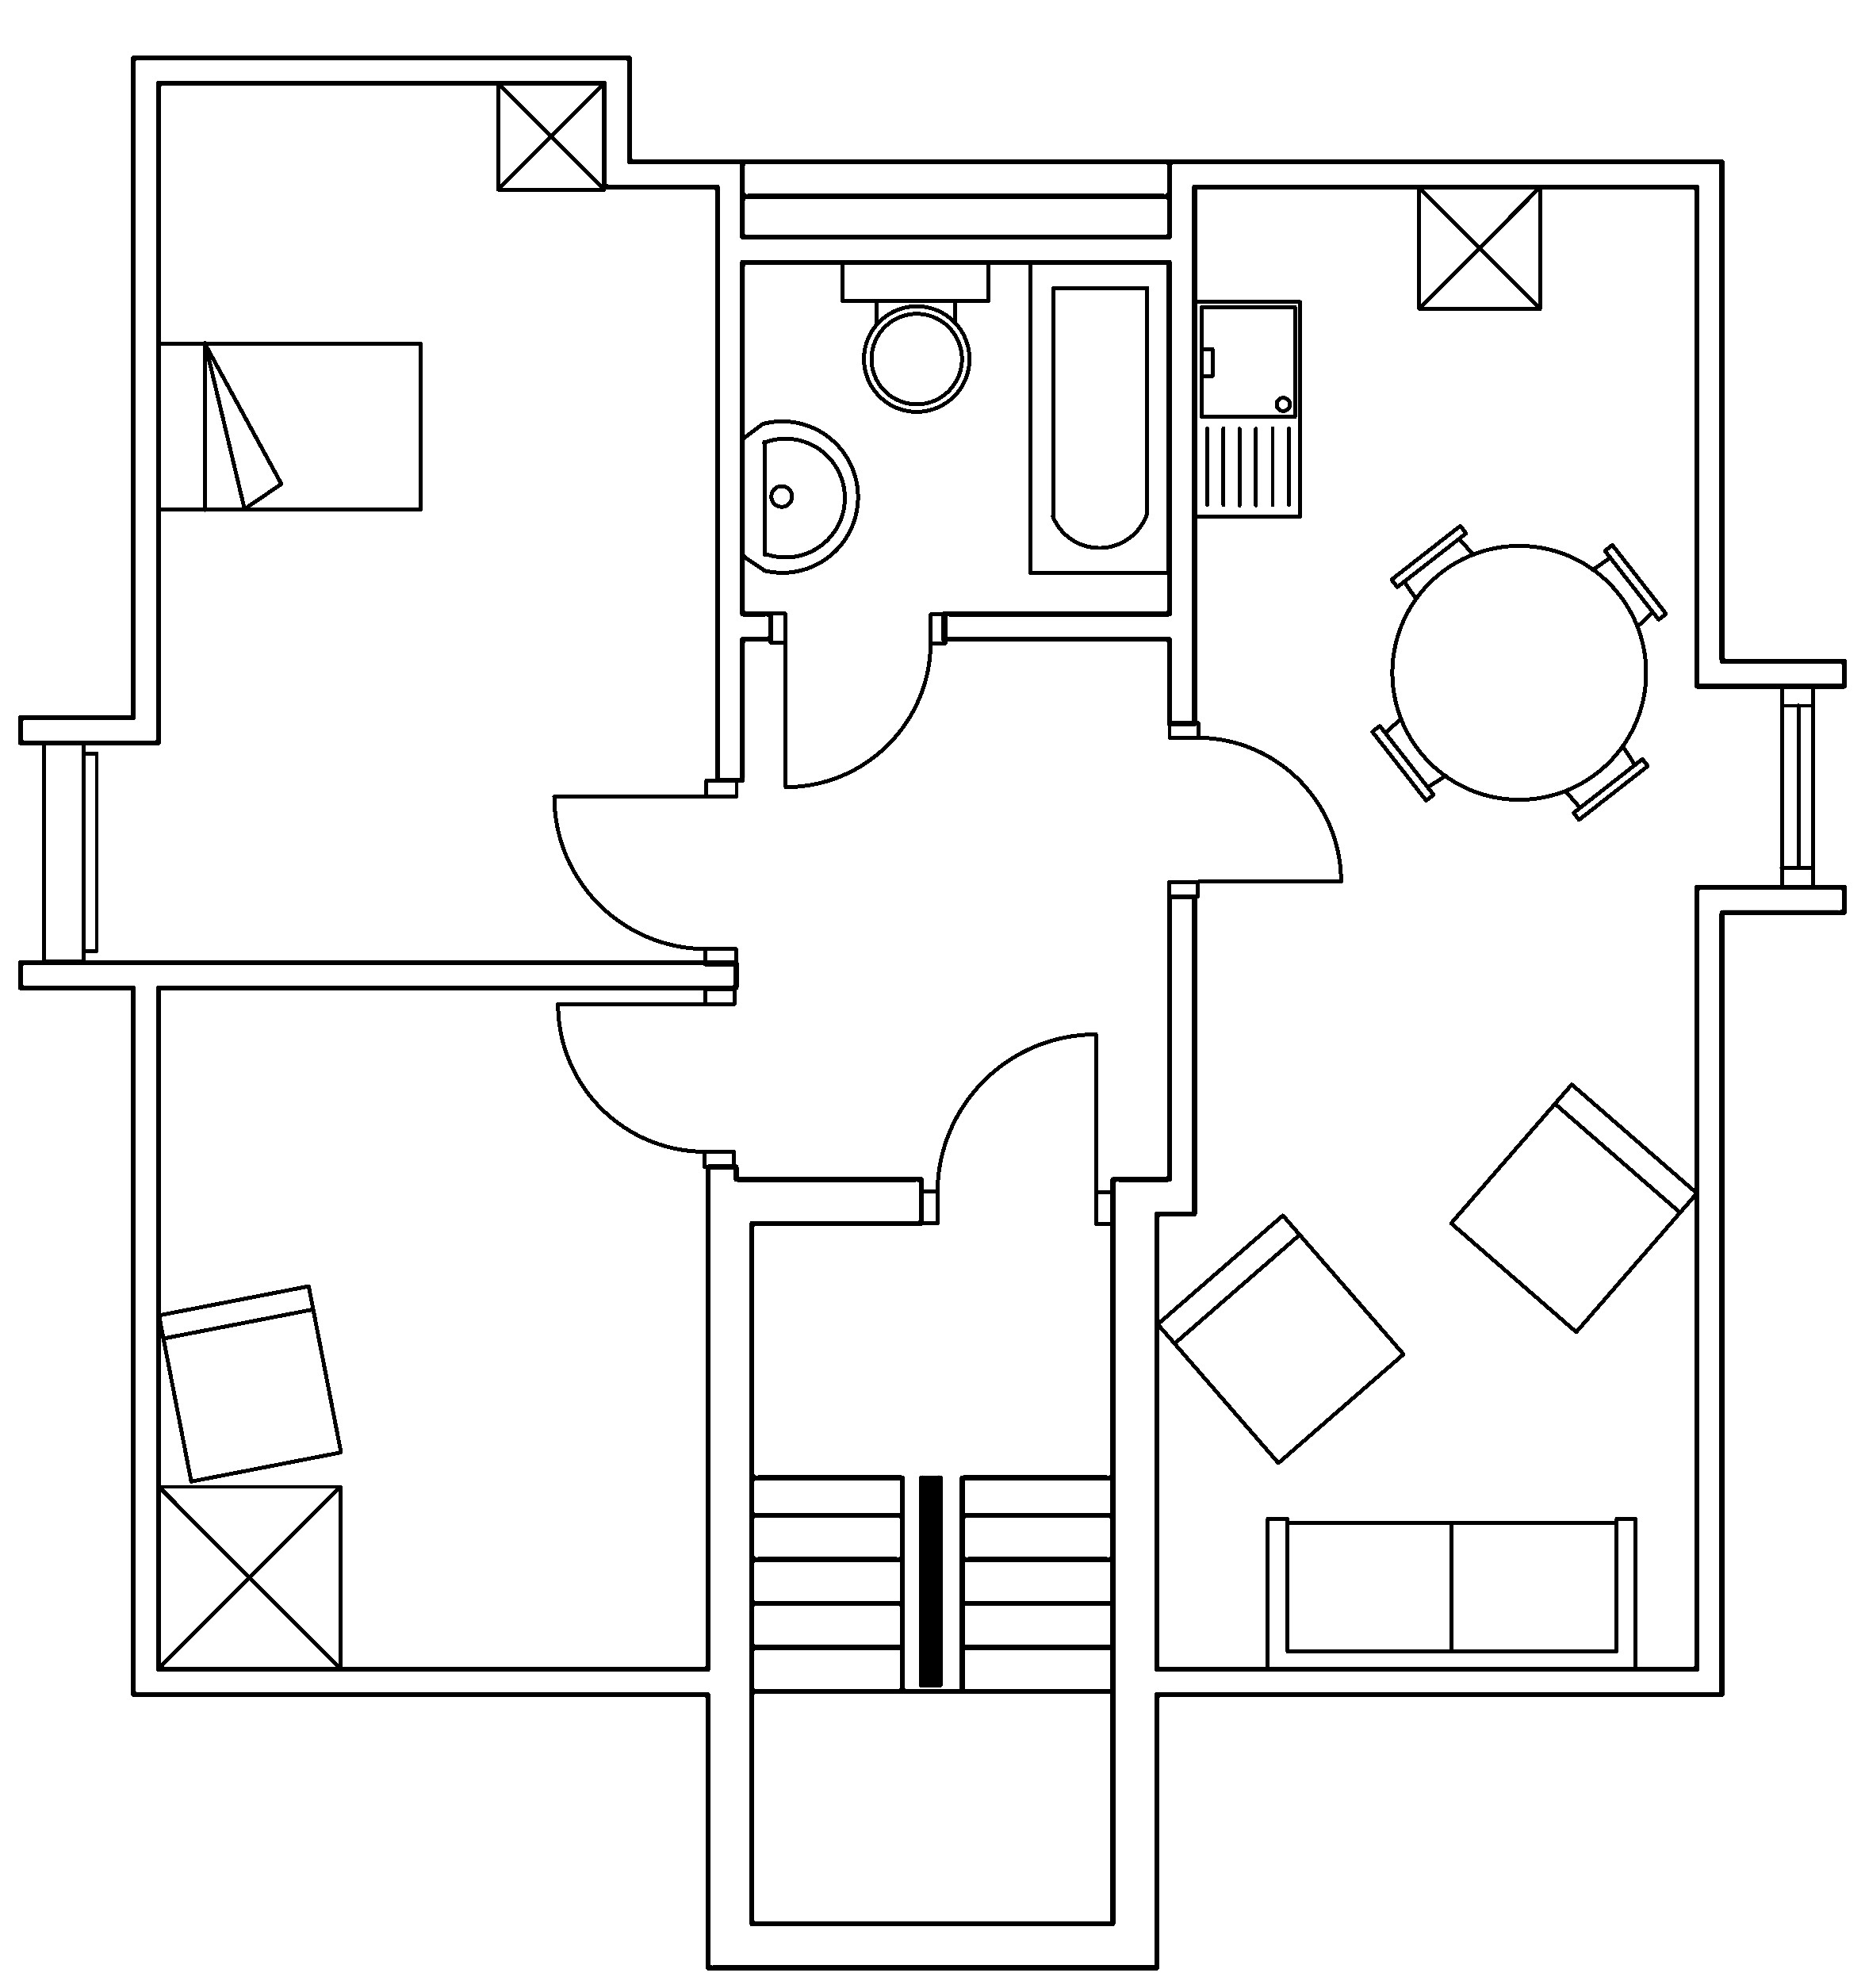bed: (154, 340, 424, 512)
coffee_table: (154, 1481, 342, 1671), (1416, 182, 1542, 310), (494, 79, 606, 191)
large_sink: (840, 258, 990, 412)
large_sofa: (1264, 1515, 1639, 1672)
round_table: (1369, 522, 1669, 822)
sink: (1192, 298, 1302, 519)
small_sink: (740, 419, 859, 573)
small_sofa: (1153, 1211, 1406, 1466), (1448, 1080, 1698, 1334), (156, 1282, 344, 1483)
tub: (1027, 258, 1171, 575)
